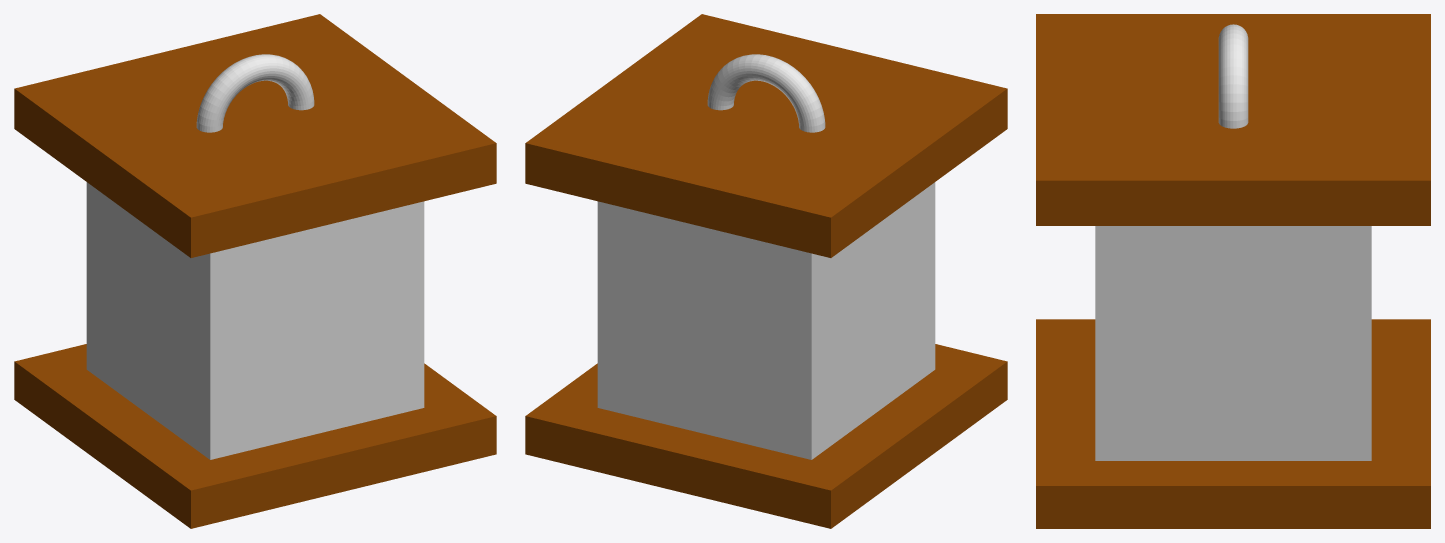
The model's file is flash.fbx.
3 renders of one model, left to right at view 1: azimuth 30°, elevation 25°; view 2: azimuth 150°, elevation 25°; view 3: azimuth 270°, elevation 25°, orthographic. The views are drawn at different scales.
Visible parts, largest first — view 1: Küp.013, Küp.008, Küp.007, Halka; view 2: Küp.013, Küp.008, Küp.007, Halka; view 3: Küp.013, Küp.008, Küp.007, Halka.
Part boxes in pixels (<box>): Küp.013: <box>14,14,496,257</box>; Küp.008: <box>86,182,424,459</box>; Küp.007: <box>14,344,496,528</box>; Halka: <box>196,54,314,132</box>; Küp.013: <box>525,14,1007,257</box>; Küp.008: <box>597,182,935,459</box>; Küp.007: <box>525,344,1007,528</box>; Halka: <box>707,54,825,132</box>; Küp.013: <box>1036,14,1430,225</box>; Küp.008: <box>1095,226,1371,460</box>; Küp.007: <box>1036,319,1430,528</box>; Halka: <box>1218,24,1248,128</box>.
Size of the model in its own units: 200 by 232 by 200.
